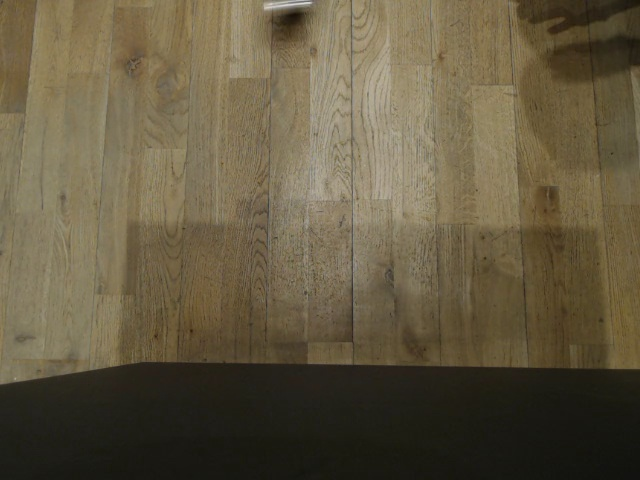beer: (254, 0, 319, 9)
